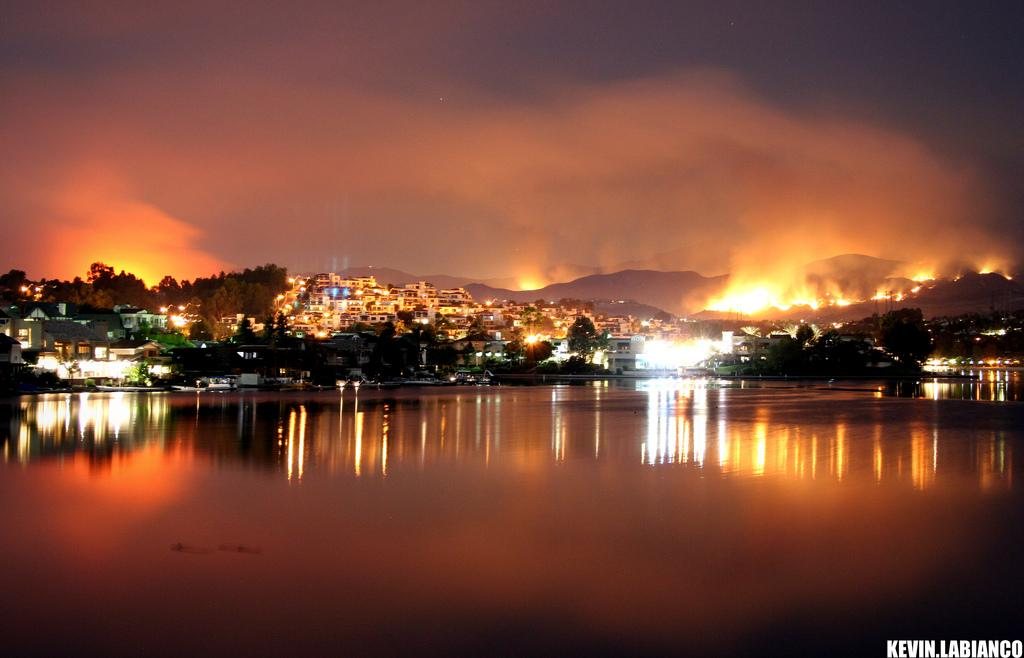fire: (87, 225, 192, 282), (713, 285, 800, 320), (637, 338, 713, 368), (513, 267, 548, 302)
